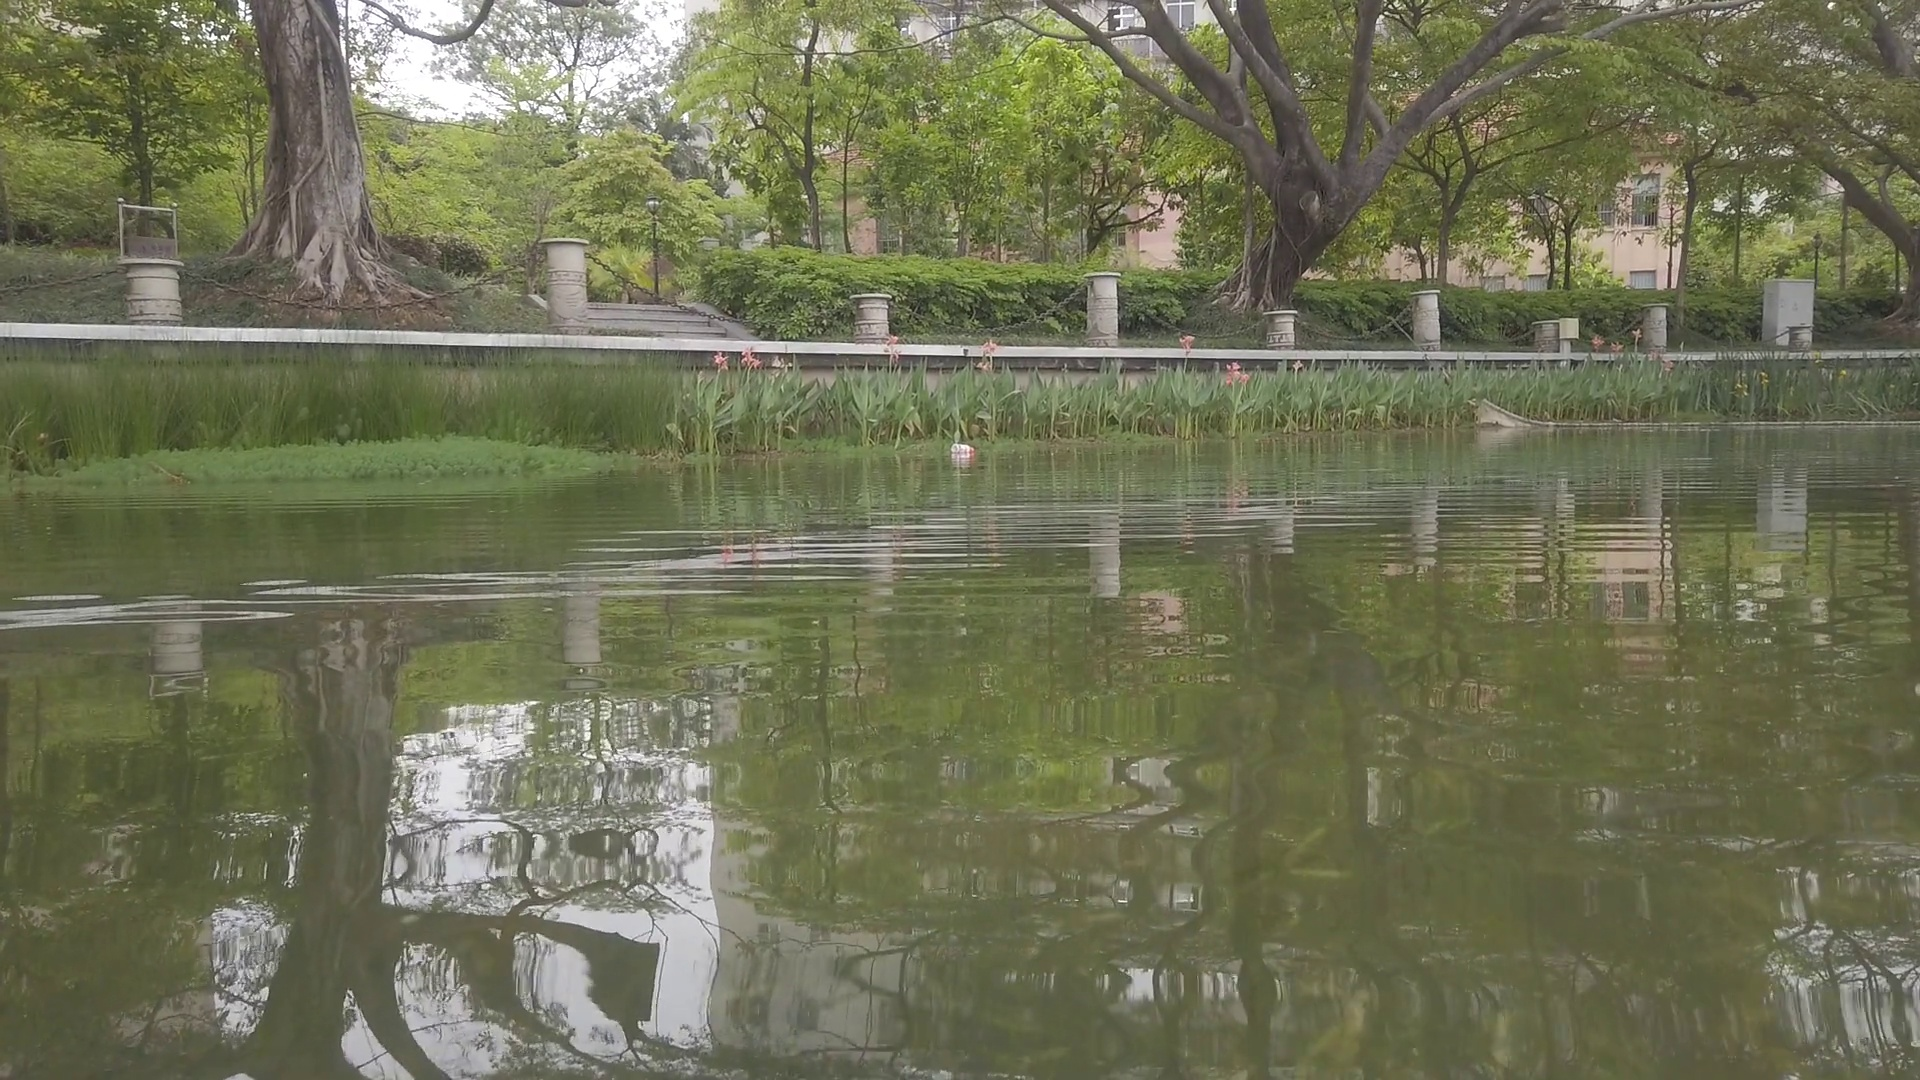bottle: (949, 444, 975, 455)
